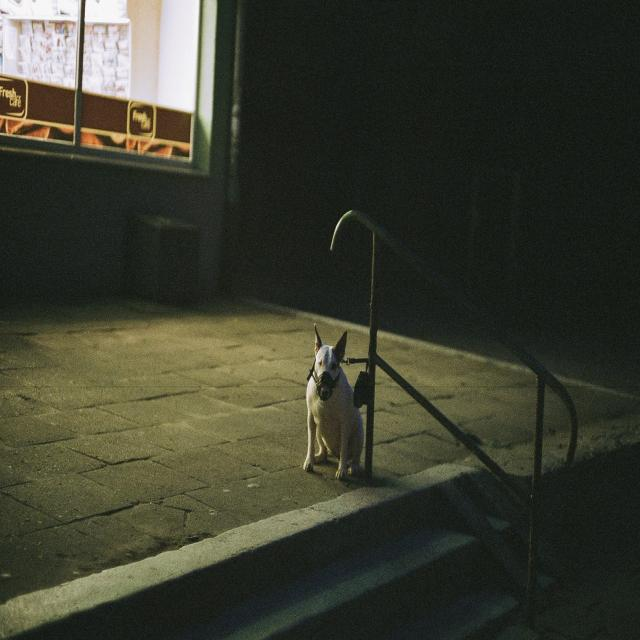Dog: (274, 329, 377, 518)
